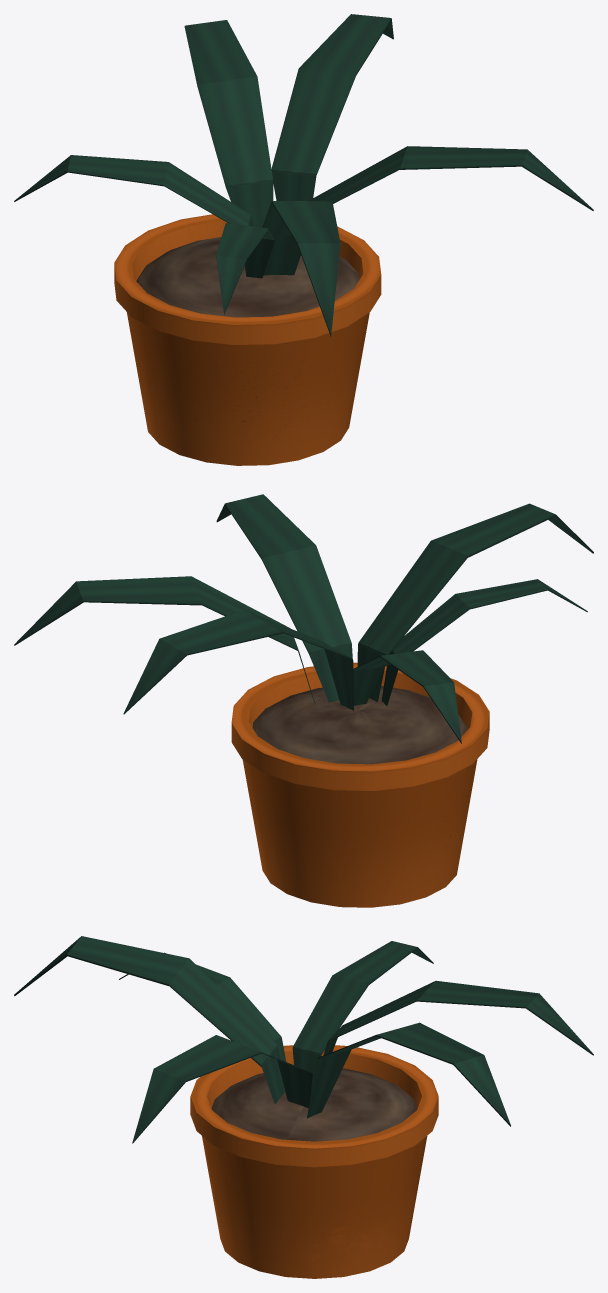
File: Pointy Plant S.fbx
3 views of the same model, one above another, from view 1: azimuth 30°, elevation 25°; view 2: azimuth 150°, elevation 25°; view 3: azimuth 270°, elevation 25° (orthographic). The views are drawn at different scales.
Parts seen in each view (by area): view 1: flower_pot, pointyleaf_6, pointyleaf_19, dirt_in_pot, pointyleaf_18, pointyleaf_17, pointyleaf_7, pointyleaf_8; view 2: flower_pot, dirt_in_pot, pointyleaf_17, pointyleaf_18, pointyleaf_6, pointyleaf_19, pointyleaf_8, pointyleaf_7; view 3: flower_pot, dirt_in_pot, pointyleaf_18, pointyleaf_19, pointyleaf_17, pointyleaf_7, pointyleaf_6, pointyleaf_8.
Part boxes in pixels (<box>): flower_pot: <box>114,214,381,465</box>; pointyleaf_6: <box>184,20,273,227</box>; pointyleaf_19: <box>271,14,393,255</box>; dirt_in_pot: <box>136,237,359,317</box>; pointyleaf_18: <box>262,201,340,336</box>; pointyleaf_17: <box>309,146,593,210</box>; pointyleaf_7: <box>14,155,254,226</box>; pointyleaf_8: <box>216,223,275,314</box>; flower_pot: <box>231,662,489,907</box>; dirt_in_pot: <box>252,685,468,764</box>; pointyleaf_17: <box>216,494,352,702</box>; pointyleaf_18: <box>357,503,593,701</box>; pointyleaf_6: <box>123,610,353,714</box>; pointyleaf_19: <box>14,576,315,705</box>; pointyleaf_8: <box>381,579,587,706</box>; pointyleaf_7: <box>353,650,461,743</box>; flower_pot: <box>190,1045,438,1278</box>; dirt_in_pot: <box>211,1068,417,1141</box>; pointyleaf_18: <box>14,936,285,1104</box>; pointyleaf_19: <box>307,1022,510,1126</box>; pointyleaf_17: <box>132,1035,312,1143</box>; pointyleaf_7: <box>292,941,433,1095</box>; pointyleaf_6: <box>323,980,593,1055</box>; pointyleaf_8: <box>119,952,286,1061</box>.
Bounding box in the file's own units: 43.99 × 29.56 × 56.66.
